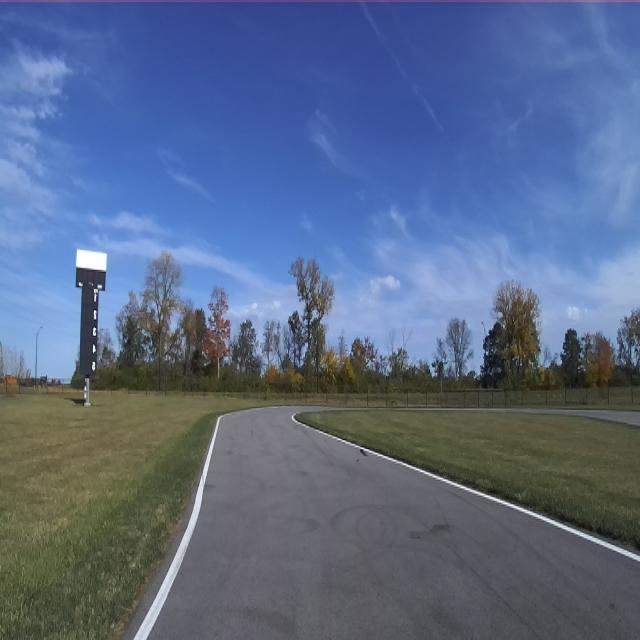white-line: (292, 413, 640, 562), (134, 415, 224, 639)
